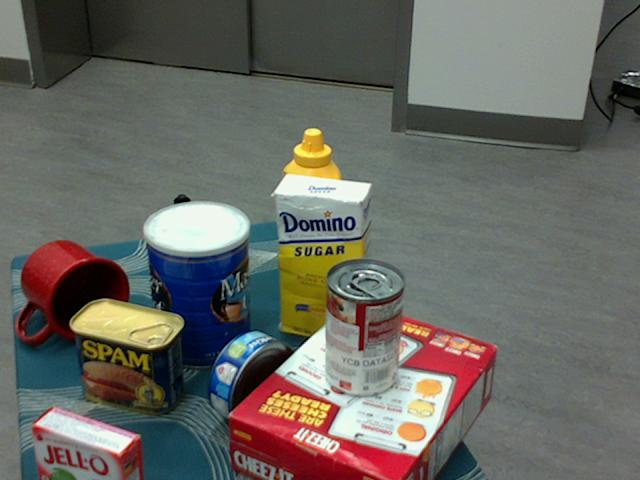cracker_box: (228, 301, 497, 479)
gelatin_box: (29, 404, 141, 479)
large_marker: (174, 193, 193, 292)
master_chef_can: (143, 201, 250, 371)
mug: (19, 239, 128, 343)
mustard_bottle: (280, 128, 340, 303)
potted_meat_can: (68, 297, 183, 413)
sugar_box: (274, 173, 372, 347)
tomato_soup_can: (322, 260, 404, 398)
tuna_fish_can: (207, 331, 296, 429)
